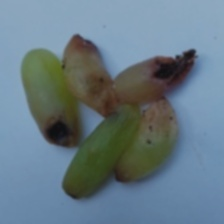grapes: (32, 30, 182, 221)
